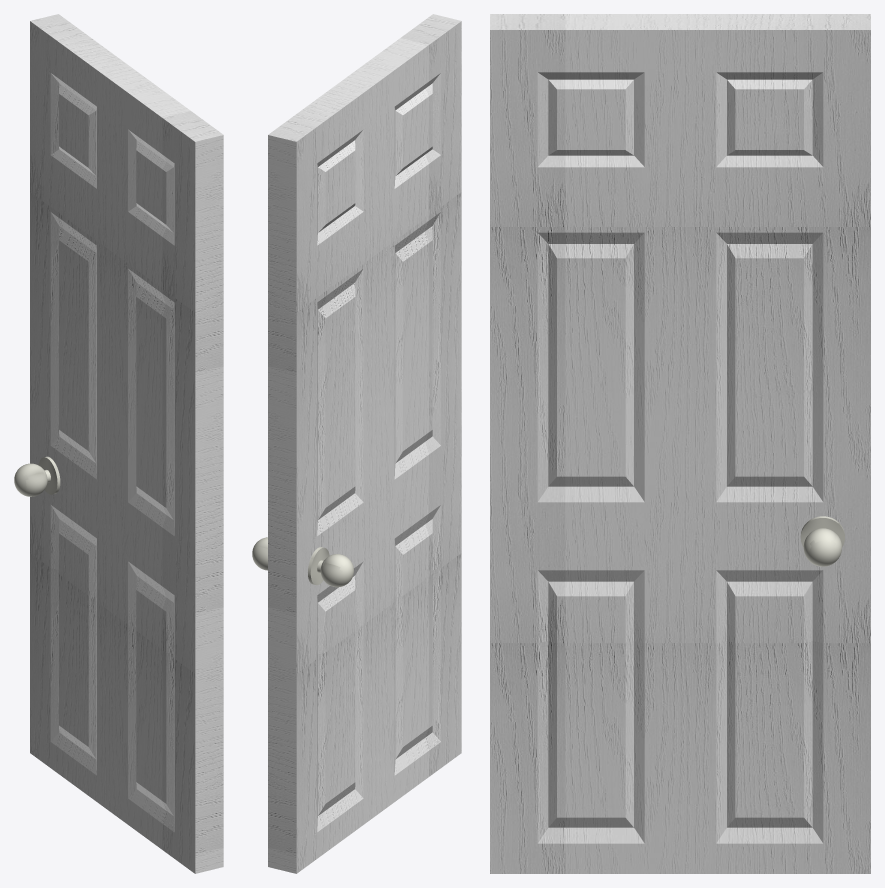
File: Puerta.obj
3 renders of one model, left to right at view 1: azimuth 30°, elevation 25°; view 2: azimuth 150°, elevation 25°; view 3: azimuth 270°, elevation 25°, orthographic. The views are drawn at different scales.
Visible parts, largest first — view 1: Cube.003; view 2: Cube.003; view 3: Cube.003.
Boxes of the visible parts, x1,y1,x2,y2 form: Cube.003: (14, 14, 223, 873); Cube.003: (252, 14, 461, 873); Cube.003: (490, 14, 870, 873).
Bounding box in the file's own units: 0.613 × 4.4 × 1.8.
